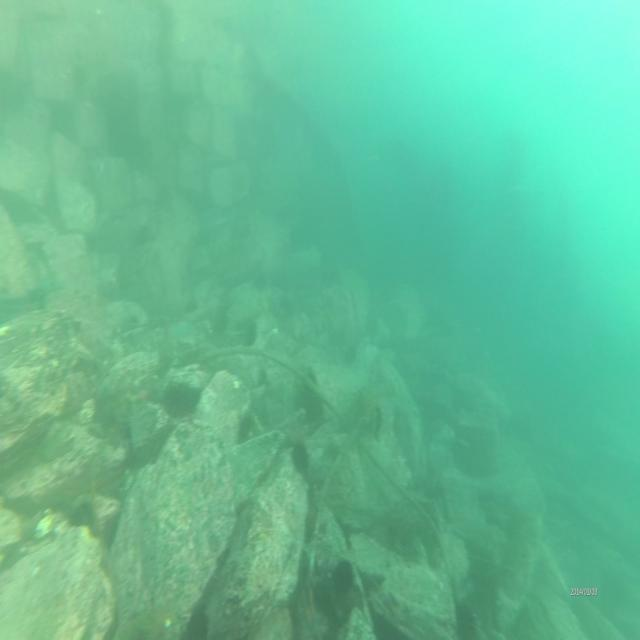echinus: (165, 378, 199, 418), (330, 554, 356, 596), (291, 436, 310, 476)
